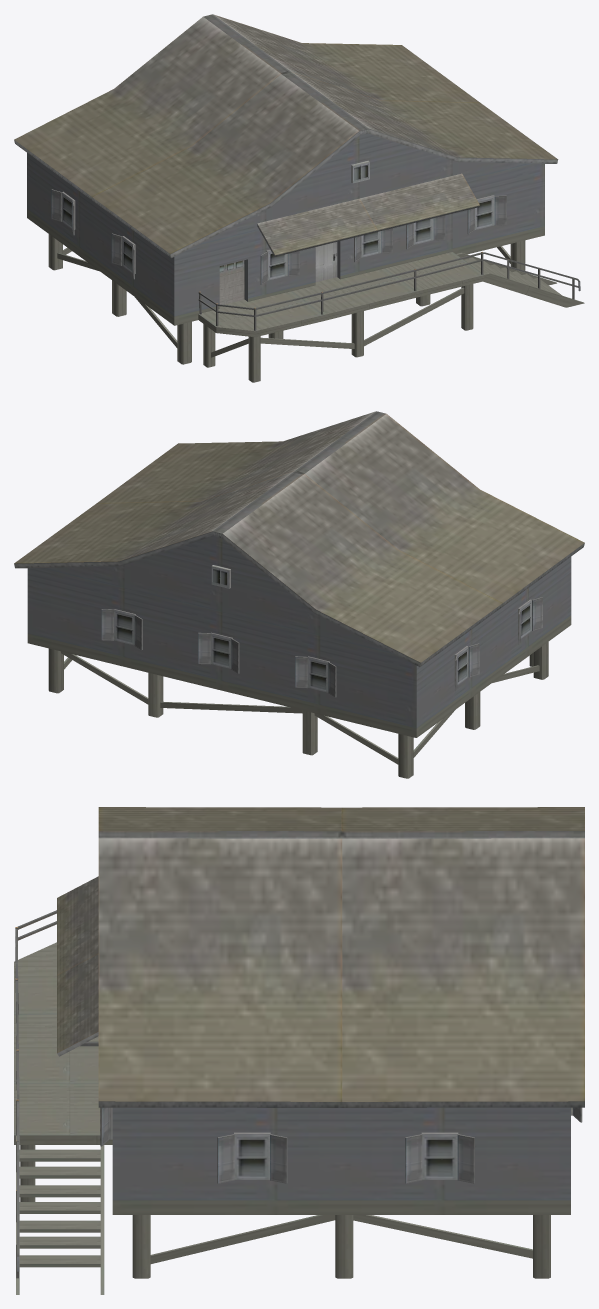
The model's file is rural-wood-1.lod1.glb.
3 views of the same model, one above another, from view 1: azimuth 30°, elevation 25°; view 2: azimuth 150°, elevation 25°; view 3: azimuth 270°, elevation 25° (orthographic). The views are drawn at different scales.
Parts seen in each view (by area): view 1: Rural_WoodenBuilding_1_Rural_Housetrim_1_0, Rural_WoodenBuilding_1_Rural_Walltrim_1_0; view 2: Rural_WoodenBuilding_1_Rural_Housetrim_1_0, Rural_WoodenBuilding_1_Rural_Walltrim_1_0; view 3: Rural_WoodenBuilding_1_Rural_Housetrim_1_0, Rural_WoodenBuilding_1_Rural_Walltrim_1_0.
Part boxes in pixels (left/top/right/bottom): Rural_WoodenBuilding_1_Rural_Housetrim_1_0: left=14, top=14, right=580, bottom=330; Rural_WoodenBuilding_1_Rural_Walltrim_1_0: left=27, top=133, right=584, bottom=382; Rural_WoodenBuilding_1_Rural_Housetrim_1_0: left=14, top=411, right=584, bottom=697; Rural_WoodenBuilding_1_Rural_Walltrim_1_0: left=27, top=536, right=571, bottom=778; Rural_WoodenBuilding_1_Rural_Housetrim_1_0: left=15, top=807, right=584, bottom=1278; Rural_WoodenBuilding_1_Rural_Walltrim_1_0: left=14, top=942, right=570, bottom=1294.
Bounding box in the file's own units: 21.07 × 10.44 × 17.27.
2 materials, 2 textured.
